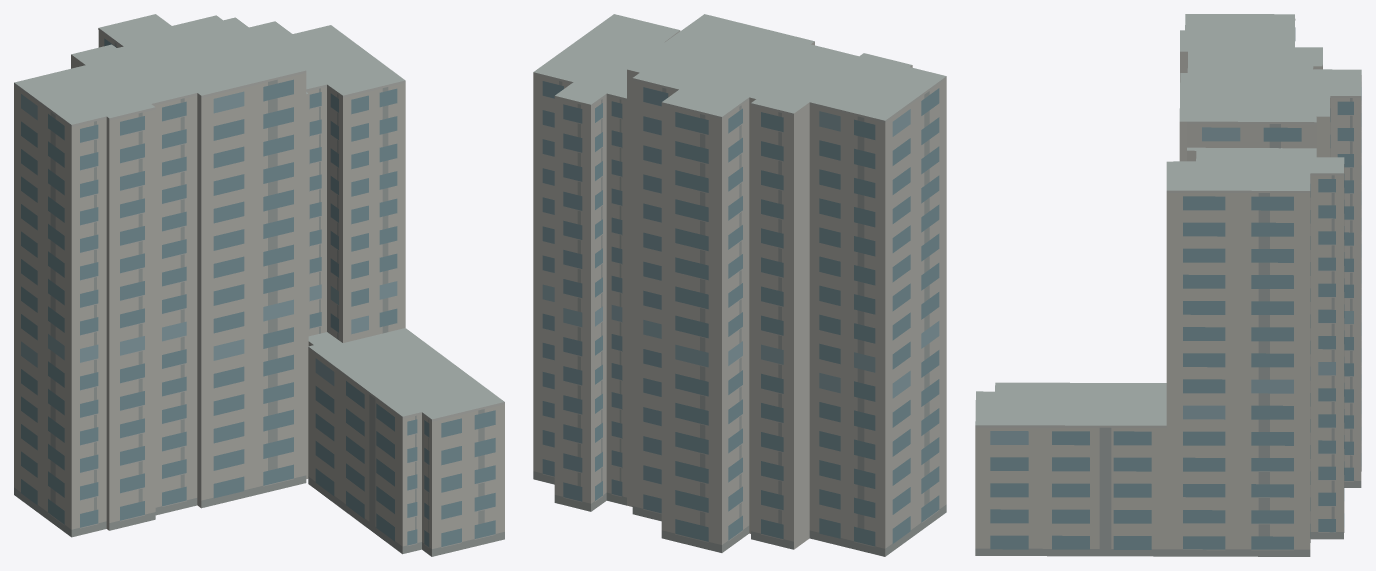
File: residential-3c74ec71-5049-418d-aabf-f180310342c9.glb
3 renders of one model, left to right at view 1: azimuth 30°, elevation 25°; view 2: azimuth 150°, elevation 25°; view 3: azimuth 270°, elevation 25°, orthographic. The views are drawn at different scales.
Visible parts, largest first — view 1: residential-3c74ec71-5049-418d-aabf-f180310342c9.tmp; view 2: residential-3c74ec71-5049-418d-aabf-f180310342c9.tmp; view 3: residential-3c74ec71-5049-418d-aabf-f180310342c9.tmp.
Boxes of the visible parts, <box> form: residential-3c74ec71-5049-418d-aabf-f180310342c9.tmp: <box>14,14,504,556</box>; residential-3c74ec71-5049-418d-aabf-f180310342c9.tmp: <box>533,14,946,556</box>; residential-3c74ec71-5049-418d-aabf-f180310342c9.tmp: <box>975,14,1361,556</box>.
Size of the model in its own units: 37.76 by 45.75 by 40.85.
